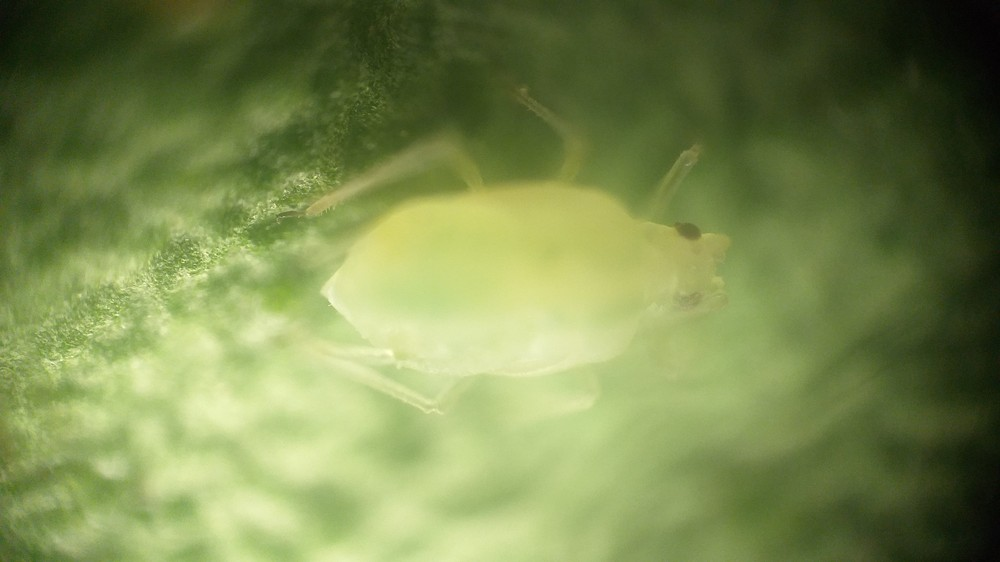Pulgon: (280, 73, 777, 478)
